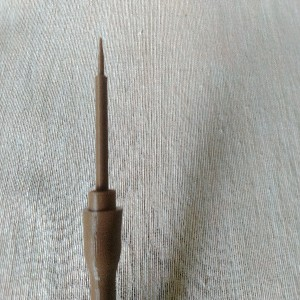solder: (81, 36, 124, 300)
